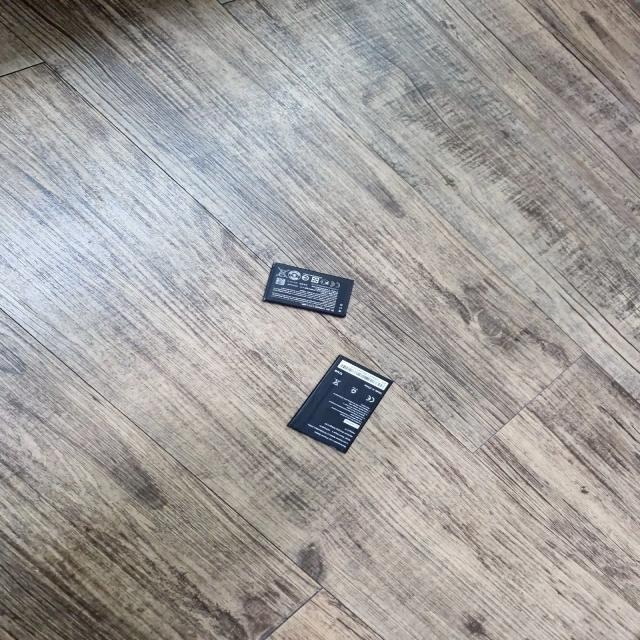battery: (262, 352, 426, 466), (212, 218, 378, 325)
